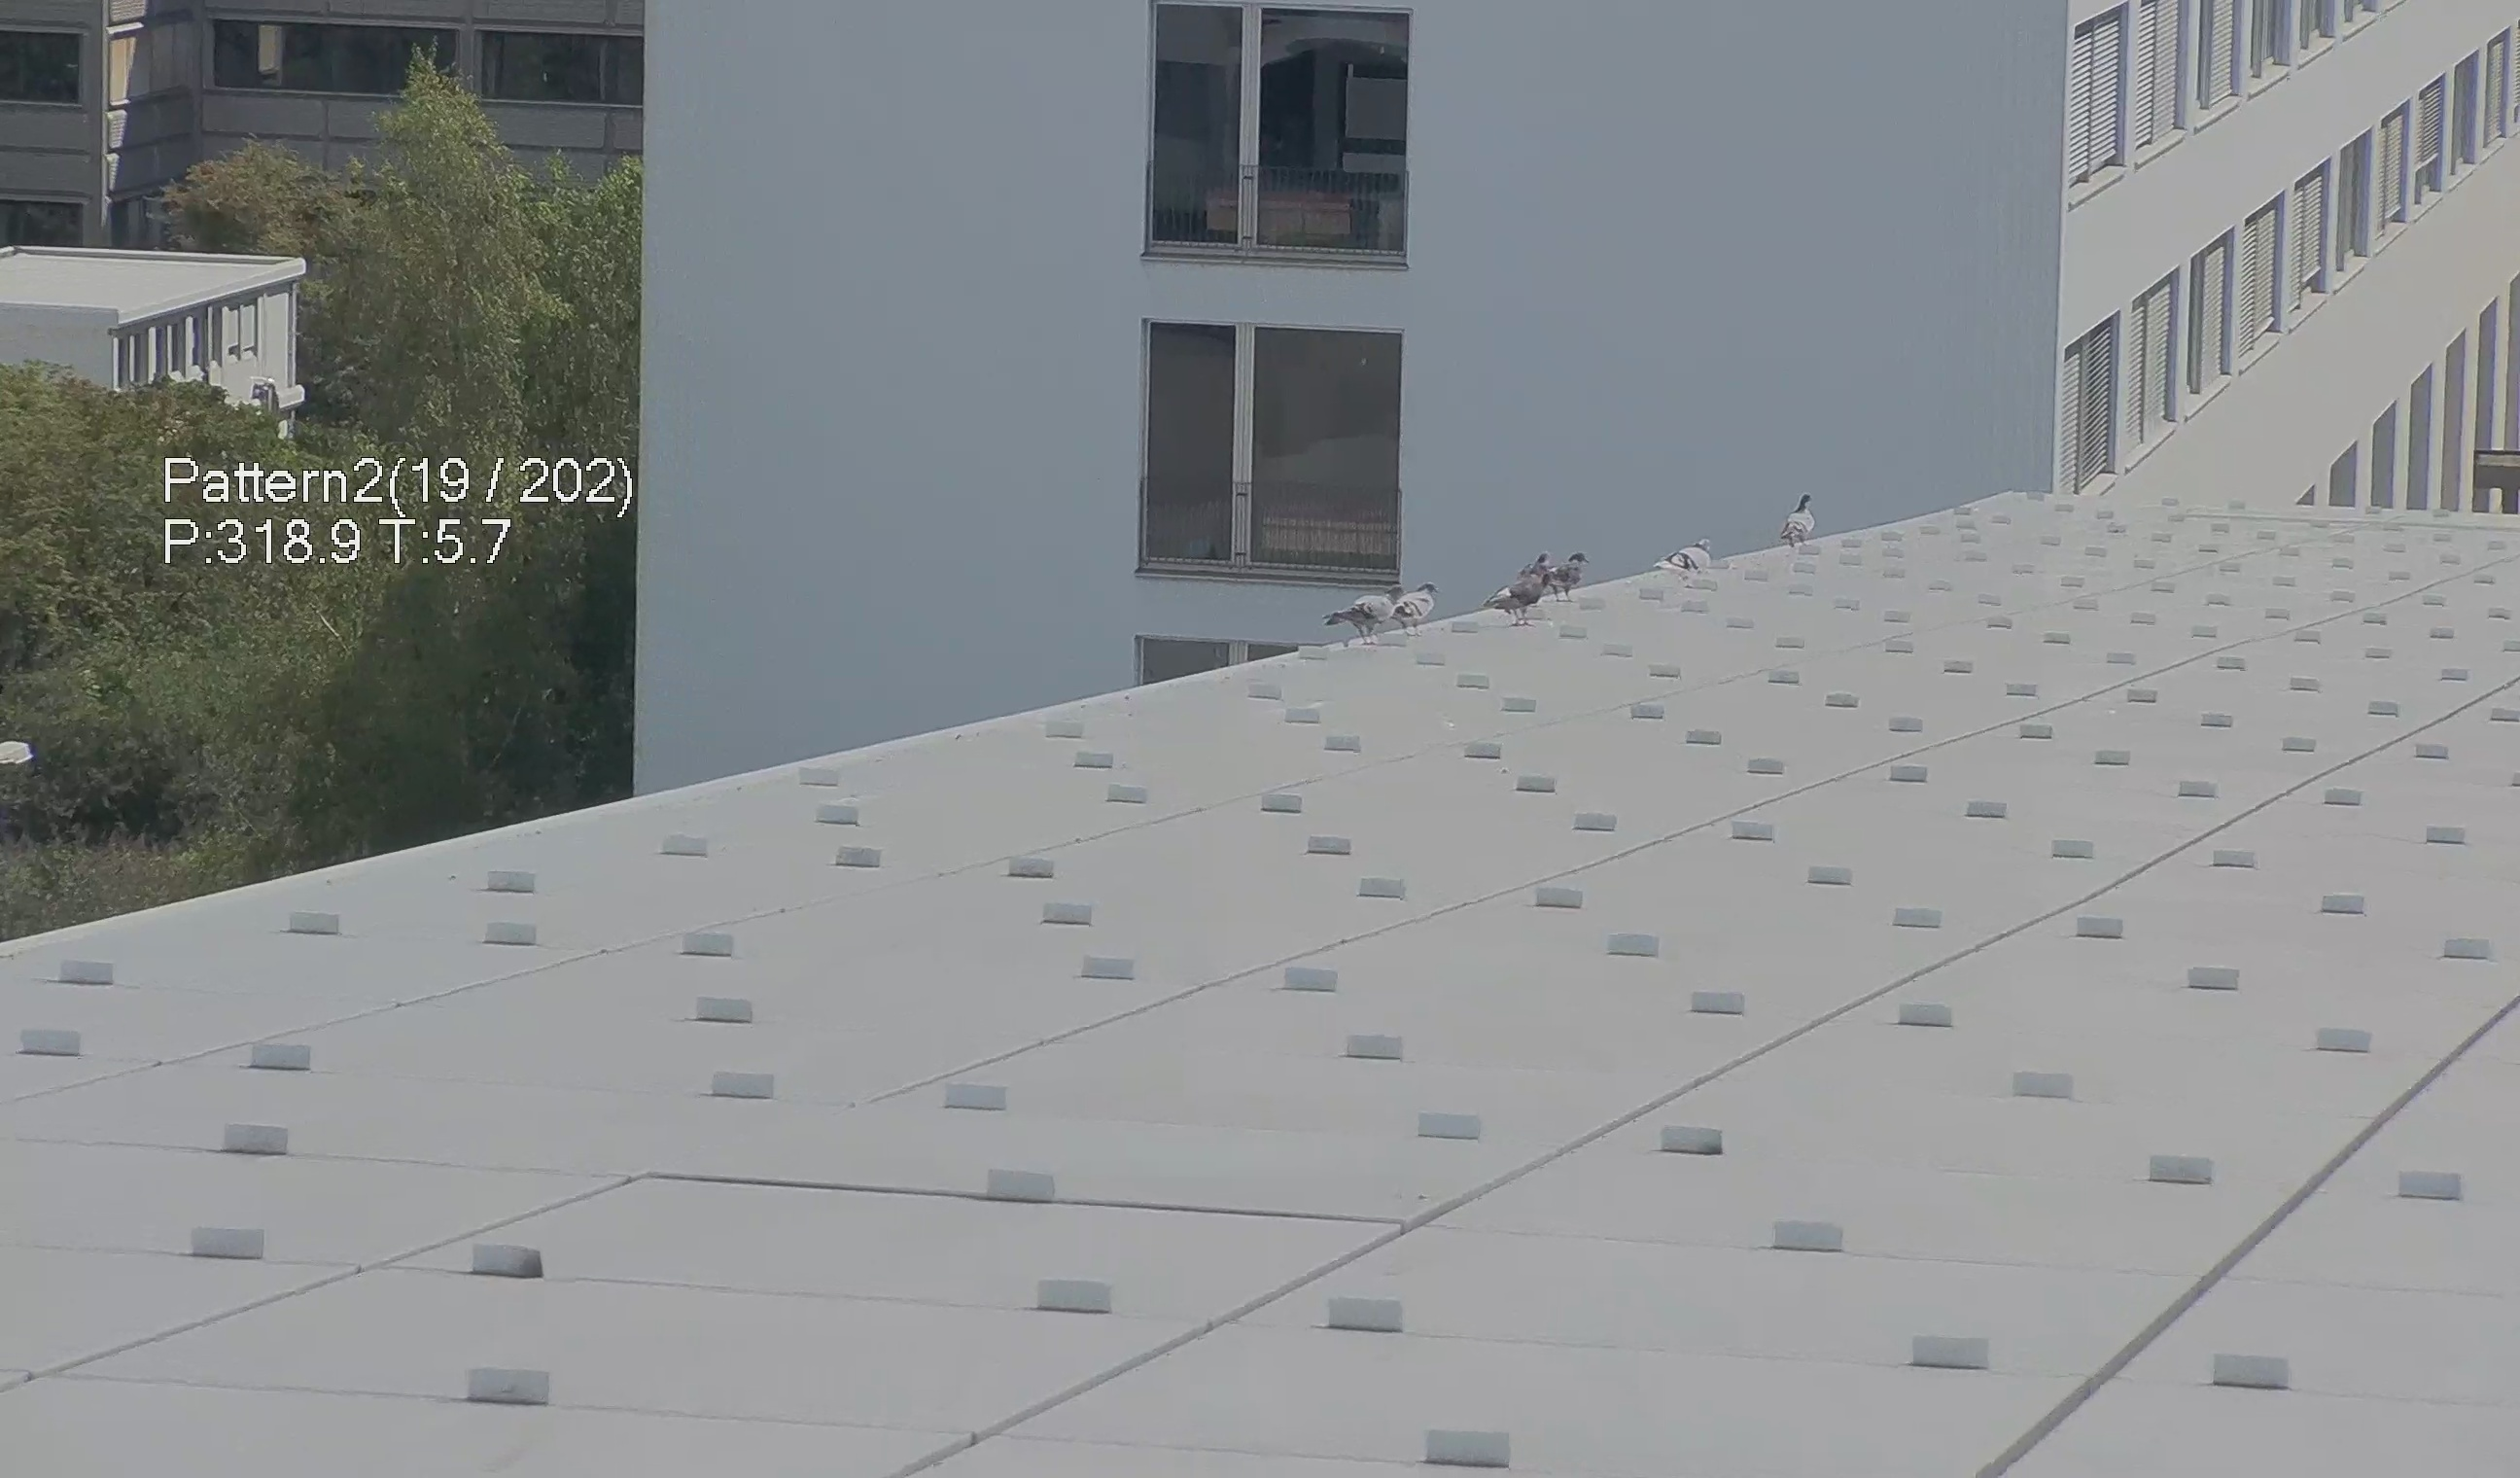Pigeon: (1326, 575, 1405, 648), (1481, 570, 1558, 623), (1387, 577, 1444, 637), (1653, 533, 1718, 582), (1780, 487, 1825, 554), (1544, 547, 1593, 593), (1518, 542, 1553, 579)
